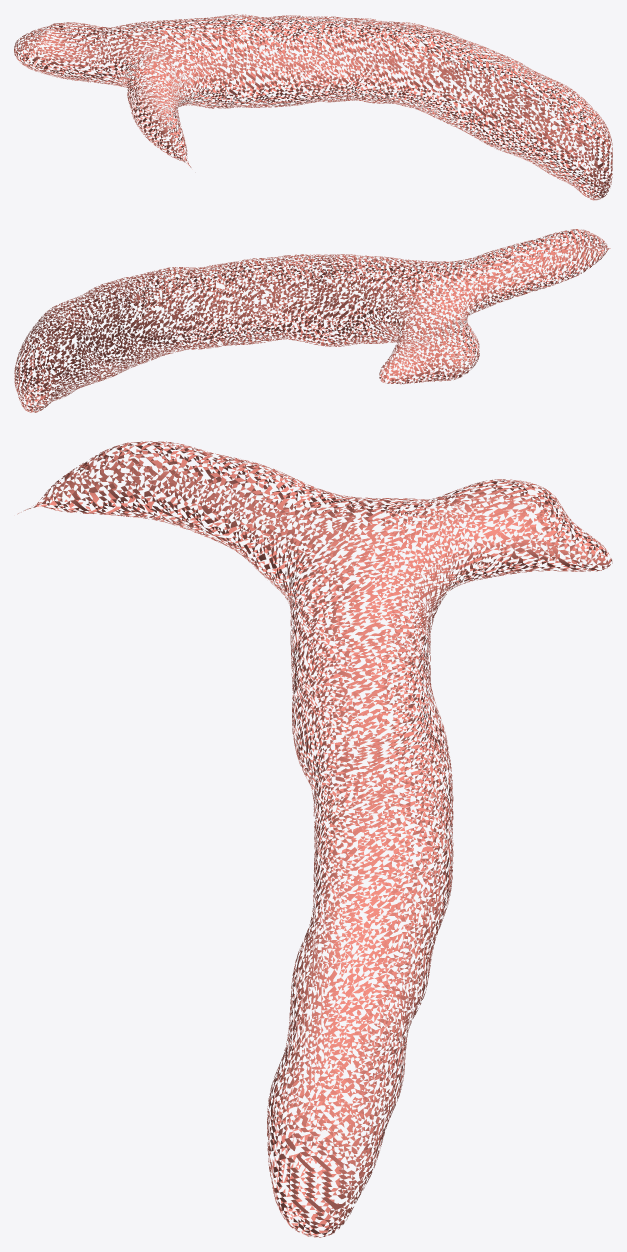
The model's file is diseased.glb.
3 views of the same model, one above another, from view 1: azimuth 30°, elevation 25°; view 2: azimuth 150°, elevation 25°; view 3: azimuth 270°, elevation 25° (orthographic). The views are drawn at different scales.
Size of the model in its own units: 121 by 58.33 by 75.92.
